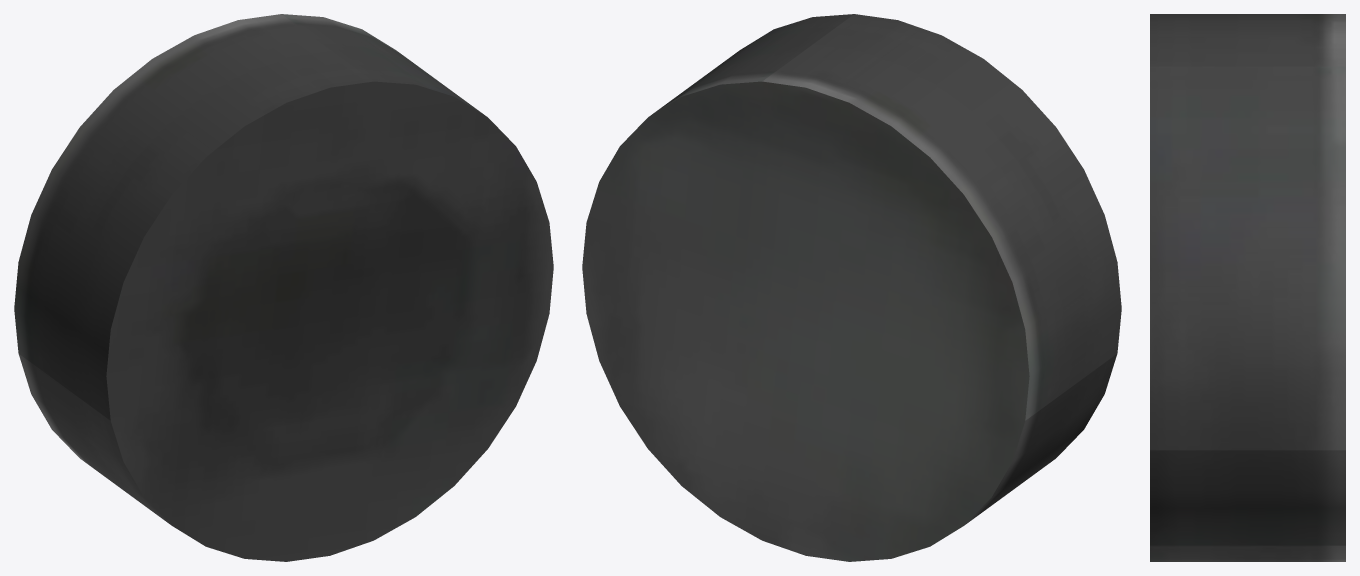
Rendered from power_button__button_cap.glb.
The picture shows the model from 3 angles, left to right: view 1: azimuth 30°, elevation 25°; view 2: azimuth 150°, elevation 25°; view 3: azimuth 270°, elevation 25°; orthographic projection. The views are drawn at different scales.
Parts seen in each view (by area): view 1: geometry_0; view 2: geometry_0; view 3: geometry_0.
Part boxes in pixels (x1,y1,x2,y2): geometry_0: [14, 14, 553, 561]; geometry_0: [582, 14, 1121, 561]; geometry_0: [1150, 14, 1345, 561].
Size of the model in its own units: 0.028 by 0.028 by 0.01.
1 material, 1 textured.
